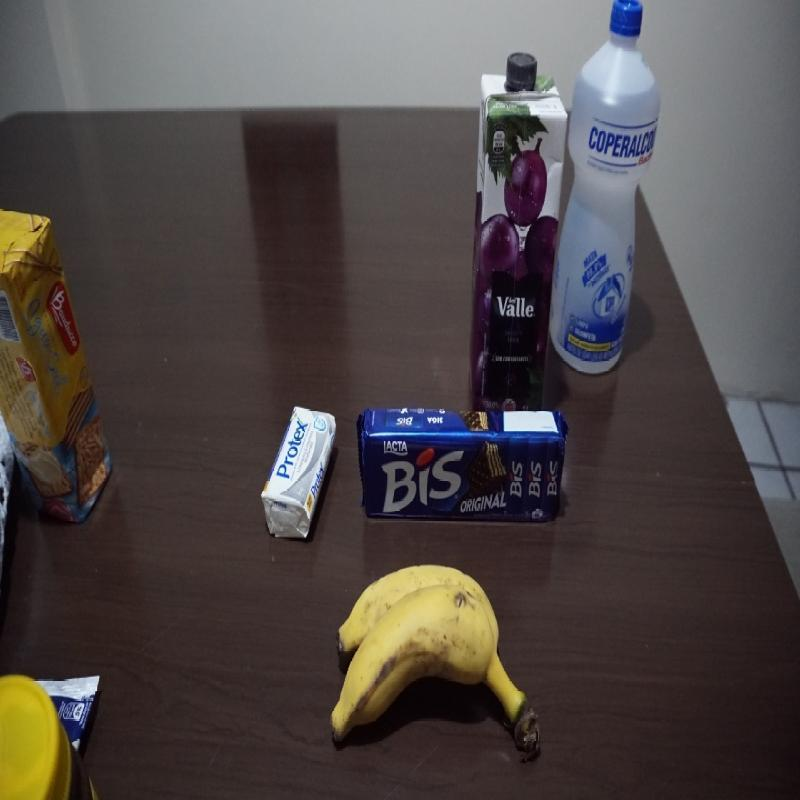Alcohol Bottle: (546, 3, 661, 382)
Banana: (331, 563, 543, 761)
Chocolate Powder: (1, 669, 96, 798)
Cracker: (0, 198, 114, 524)
Popcorn: (35, 664, 114, 753)
Soap: (260, 404, 338, 540)
